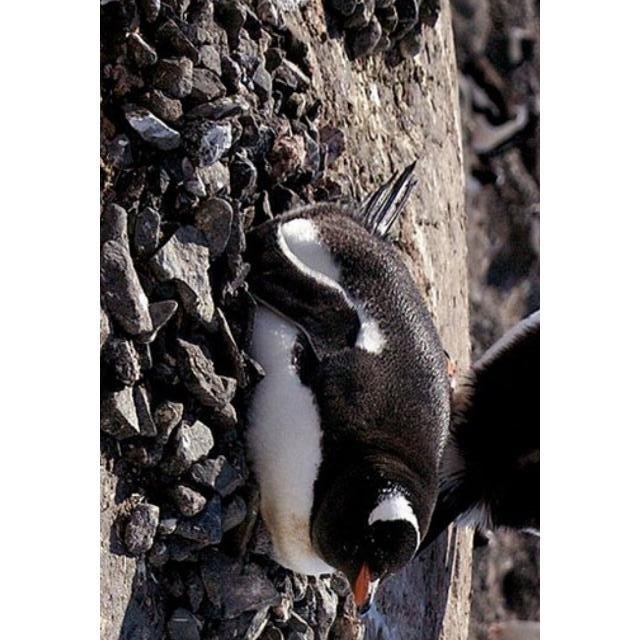penguin: (237, 162, 449, 614)
